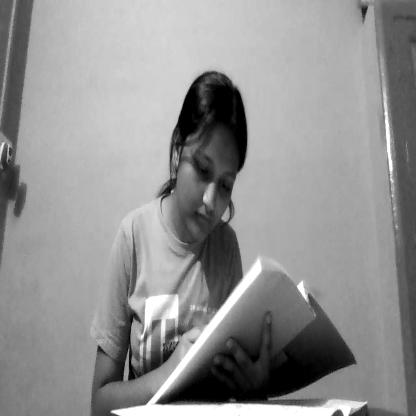Distracted: (169, 72, 254, 256)
